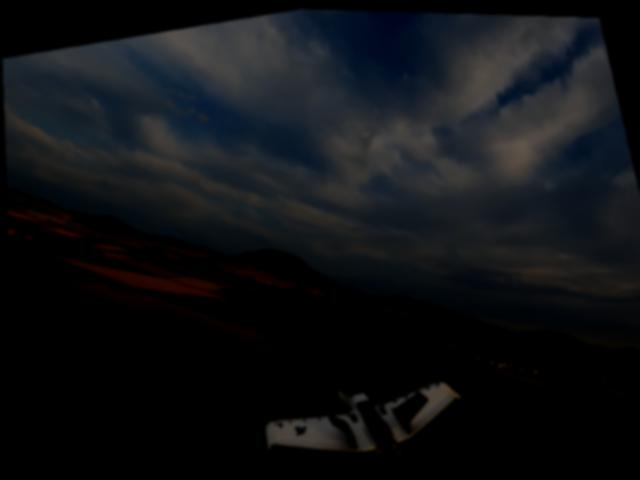plane: (250, 356, 469, 475)
